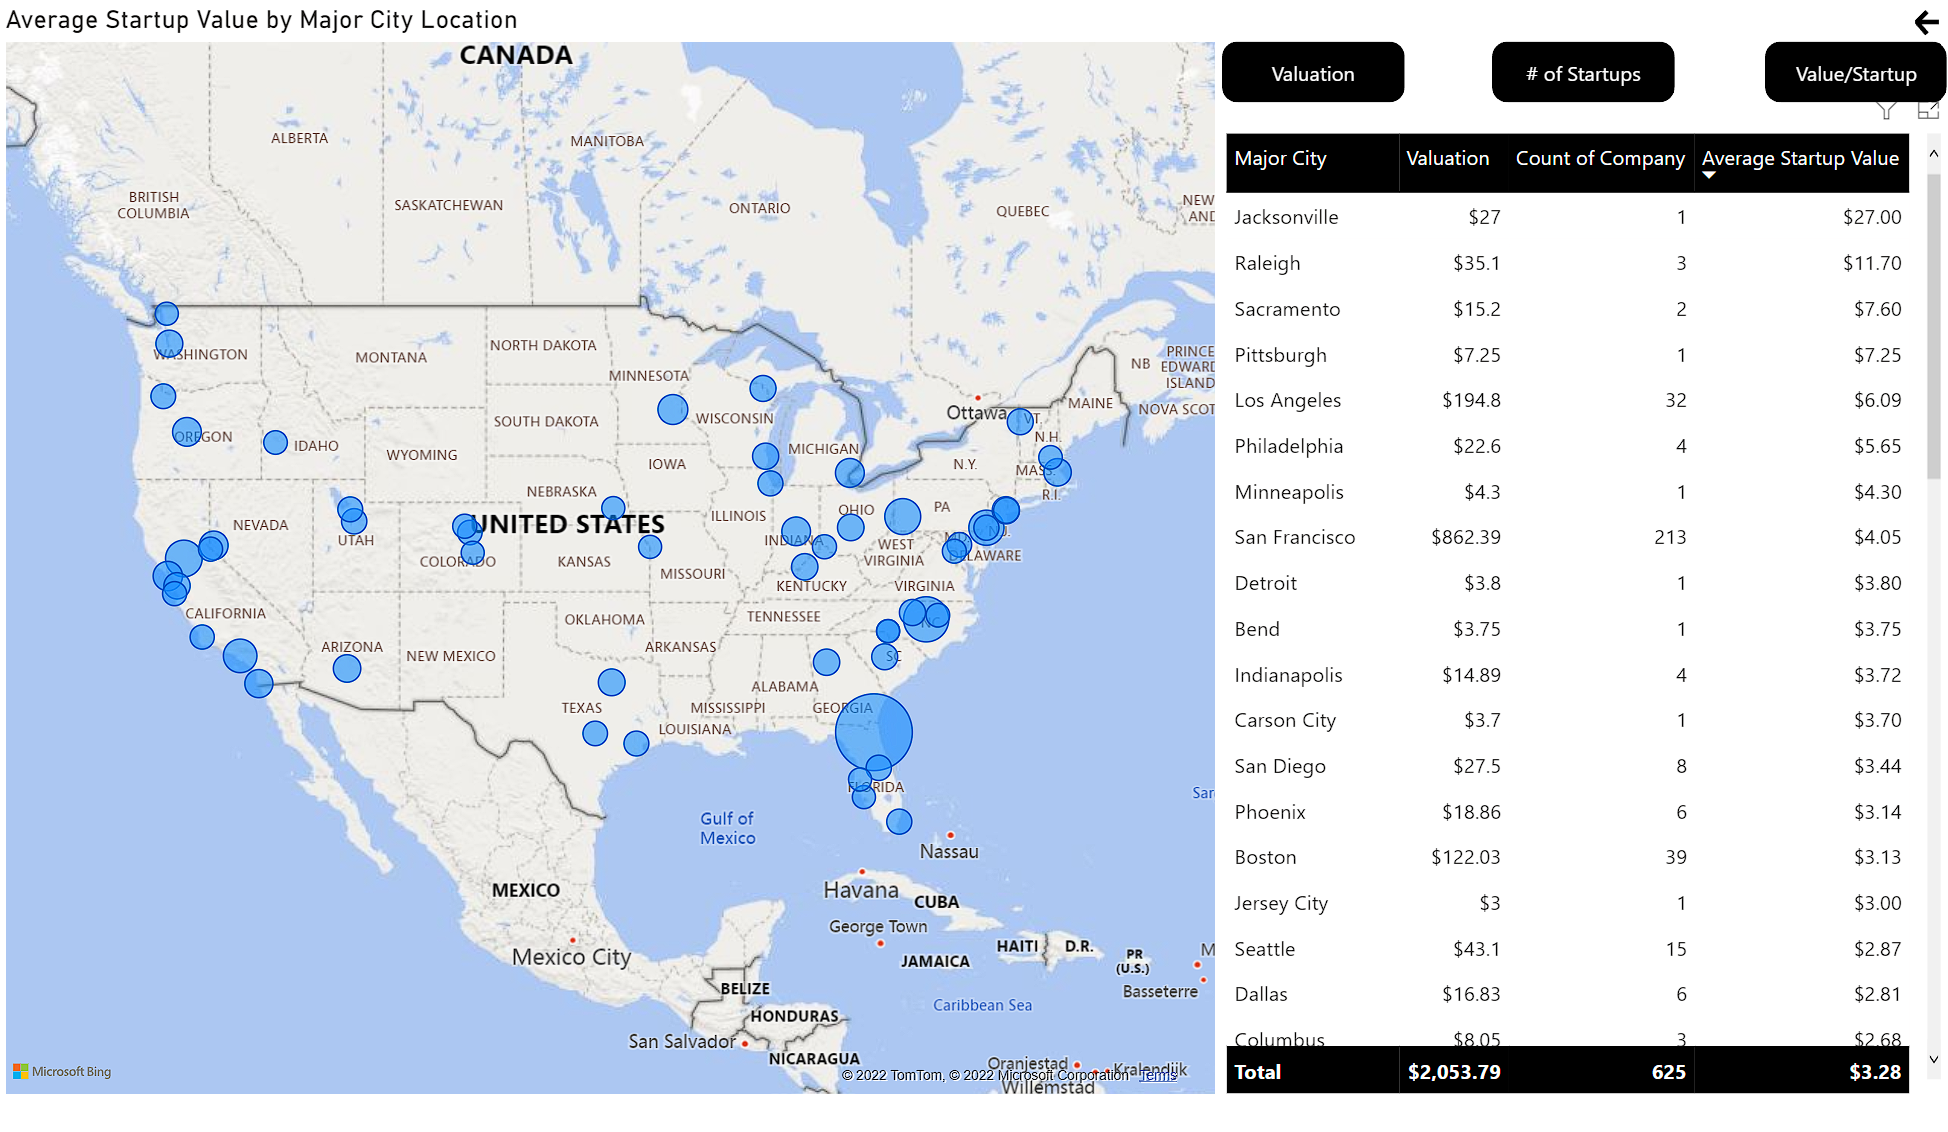

What the dashboard file says about the page in this screenshot:
{"tool":"powerbi","page":{"name":"Cities","canvas":[1280,720],"ordinal":2},"visuals":[{"type":"map","title":"Number of Startups per City","fields":{"Category":["Major Cities Lookup.State","Startups.Major City Location"],"Size":["CountNonNull(Startups.Company)"]},"box":[0,0,803.6,719.8],"z":0},{"type":"tableEx","title":"Table","fields":{"Values":["Major Cities Lookup.Major City","Sum(Startups.Valuation)","Startups.Company","Major Cities Lookup.Average Startup Value"]},"box":[800.3,79.8,479.7,640],"z":1000},{"type":"actionButton","box":[803.8,24.7,120,40.1],"z":4000},{"type":"actionButton","box":[980.2,24.7,120.2,40.1],"z":5000},{"type":"actionButton","box":[1159.8,24.7,120.2,40.1],"z":6000},{"type":"actionButton","box":[1254.6,0,25.3,24.7],"z":7000}]}

Visuals, with their boxes on the page's 1280x720 design canvas (x1, y1, x2, y2). These are canvas units, not pixel positions in the 1948x1132 screenshot, which may show the page scaled, cropped or inside an application window:
"Number of Startups per City" map: Rect(0, 0, 804, 720)
"Table" tableEx: Rect(800, 80, 1280, 720)
actionButton: Rect(804, 25, 924, 65)
actionButton: Rect(980, 25, 1100, 65)
actionButton: Rect(1160, 25, 1280, 65)
actionButton: Rect(1255, 0, 1280, 25)
